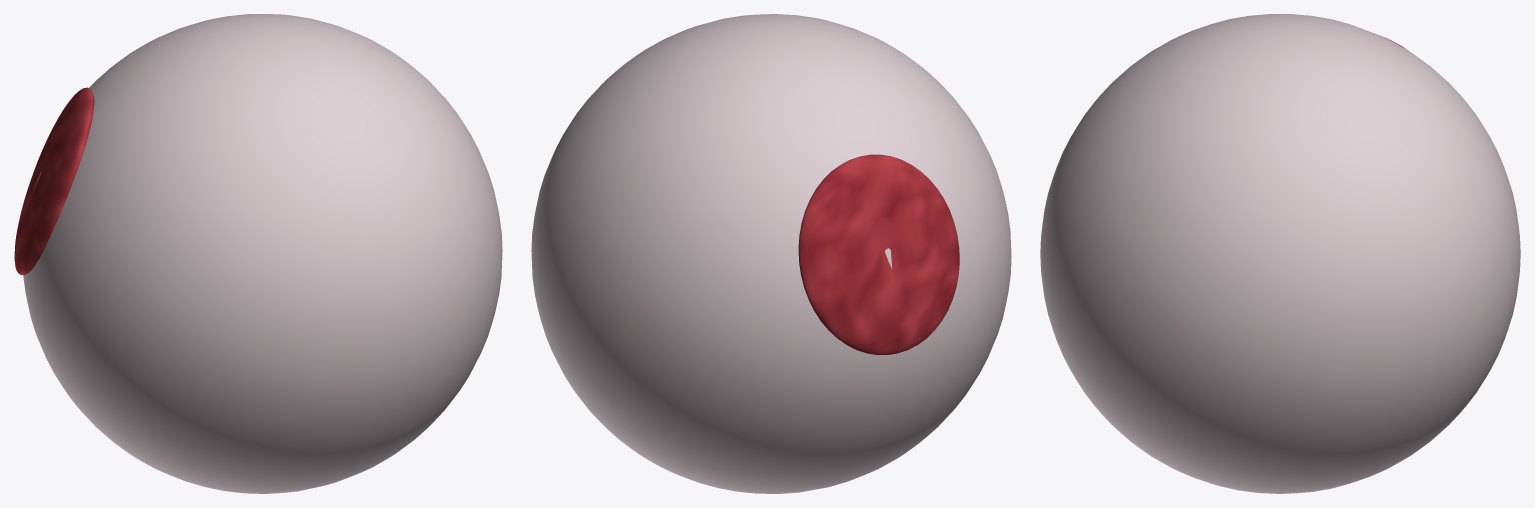
The model's file is hafta_14.glb.
3 views of the same model, side by side, from view 1: azimuth 30°, elevation 25°; view 2: azimuth 150°, elevation 25°; view 3: azimuth 270°, elevation 25° (orthographic).
Parts seen in each view (by area): view 1: Amniyon_kesesi, Plasenta; view 2: Amniyon_kesesi, Plasenta; view 3: Amniyon_kesesi.
Boxes of the visible parts, <box> form: Amniyon_kesesi: <box>23,14,502,493</box>; Plasenta: <box>14,87,94,275</box>; Amniyon_kesesi: <box>531,14,1011,493</box>; Plasenta: <box>798,154,959,354</box>; Amniyon_kesesi: <box>1040,14,1520,493</box>.
Size of the model in its own units: 1.45 by 1.45 by 1.45.
